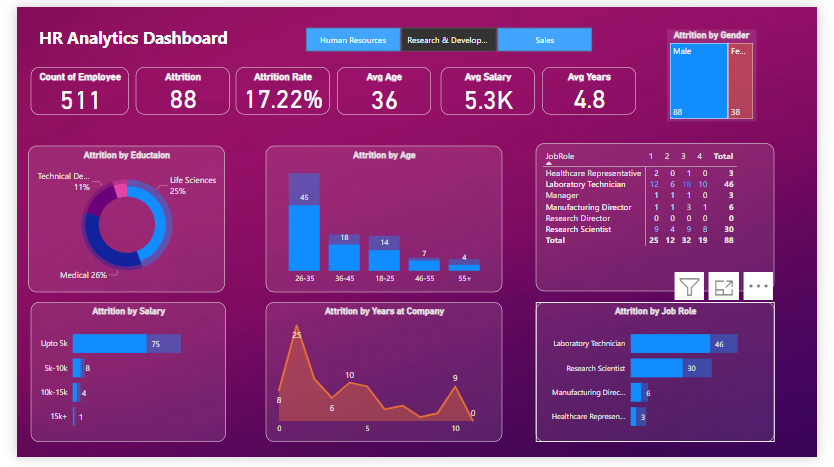

The page's visual inventory and layout, read from the dashboard file:
{"tool":"powerbi","page":{"name":"Page 1","canvas":[1280,720],"ordinal":0},"visuals":[{"type":"card","title":"Avg Salary","fields":{"Values":["Avg(HR_Analytics.MonthlyIncome)"]},"box":[678.6,95.7,150,77.1],"z":0},{"type":"card","title":"Count of Employee","fields":{"Values":["CountNonNull(HR_Analytics.EmpID)"]},"box":[21.4,95.7,157.1,77.1],"z":1000},{"type":"card","title":"Attrition","fields":{"Values":["Sum(HR_Analytics.AttritionCount)"]},"box":[190,96,150,75.7],"z":2000},{"type":"card","title":"Attrition Rate","fields":{"Values":["HR_Analytics.AttritionRate"]},"box":[350,95.7,150,75.7],"z":3000},{"type":"card","title":"Avg Years","fields":{"Values":["Avg(HR_Analytics.YearsAtCompany)"]},"box":[840,95.7,150,75.7],"z":4000},{"type":"card","title":"Avg Age","fields":{"Values":["Avg(HR_Analytics.Age)"]},"box":[511.4,95.7,150,77.1],"z":5000},{"type":"donutChart","title":"Attrition by Eductaion","fields":{"Category":["HR_Analytics.EducationField"],"Y":["Sum(HR_Analytics.AttritionCount)"]},"box":[18.6,221.4,314.3,234.3],"z":6000},{"type":"pivotTable","title":"Attrition by Eductaion","fields":{"Rows":["HR_Analytics.JobRole"],"Columns":["HR_Analytics.JobSatisfaction"],"Values":["Sum(HR_Analytics.AttritionCount)"]},"box":[830,218.6,381.4,237.1],"z":7000},{"type":"columnChart","title":"Attrition by Age","fields":{"Category":["HR_Analytics.AgeGroup"],"Y":["Sum(HR_Analytics.AttritionCount)"]},"box":[398.6,221.4,378.6,234.3],"z":8000},{"type":"barChart","title":"Attrition by Salary","fields":{"Category":["HR_Analytics.SalarySlab"],"Y":["Sum(HR_Analytics.AttritionCount)"]},"box":[22,472,312,224],"z":9000},{"type":"barChart","title":"Attrition by Job Role","fields":{"Y":["Sum(HR_Analytics.AttritionCount)"],"Category":["HR_Analytics.JobRole"]},"box":[830,472,382,224],"z":10000},{"type":"areaChart","title":"Attrition by Years at Company","fields":{"Category":["HR_Analytics.YearsAtCompany"],"Y":["Sum(HR_Analytics.AttritionCount)"]},"box":[398.6,471.4,378.6,224.3],"z":11000},{"type":"treemap","title":"Attrition by Gender","fields":{"Group":["HR_Analytics.Gender"],"Values":["Sum(HR_Analytics.AttritionCount)"]},"box":[1040,35.7,142.9,147.1],"z":12000},{"type":"slicer","fields":{"Values":["HR_Analytics.Department"]},"box":[435,25,508.3,51.7],"z":13000},{"type":"textbox","box":[30,25.7,345.7,58.6],"z":14000}]}

Visuals, with their boxes in screenshot pixels (x1, y1, x2, y2), scaled from the page's 1280x720 canvas onto the 834x467 screenshot:
"Avg Salary" card: Rect(442, 62, 540, 112)
"Count of Employee" card: Rect(14, 62, 116, 112)
"Attrition" card: Rect(124, 62, 222, 111)
"Attrition Rate" card: Rect(228, 62, 326, 111)
"Avg Years" card: Rect(547, 62, 645, 111)
"Avg Age" card: Rect(333, 62, 431, 112)
"Attrition by Eductaion" donutChart: Rect(12, 144, 217, 296)
"Attrition by Eductaion" pivotTable: Rect(541, 142, 789, 296)
"Attrition by Age" columnChart: Rect(260, 144, 506, 296)
"Attrition by Salary" barChart: Rect(14, 306, 218, 451)
"Attrition by Job Role" barChart: Rect(541, 306, 790, 451)
"Attrition by Years at Company" areaChart: Rect(260, 306, 506, 451)
"Attrition by Gender" treemap: Rect(678, 23, 771, 119)
slicer - HR_Analytics.Department: Rect(283, 16, 615, 50)
textbox: Rect(20, 17, 245, 55)
